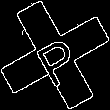P_NW: (26, 24, 84, 86)
